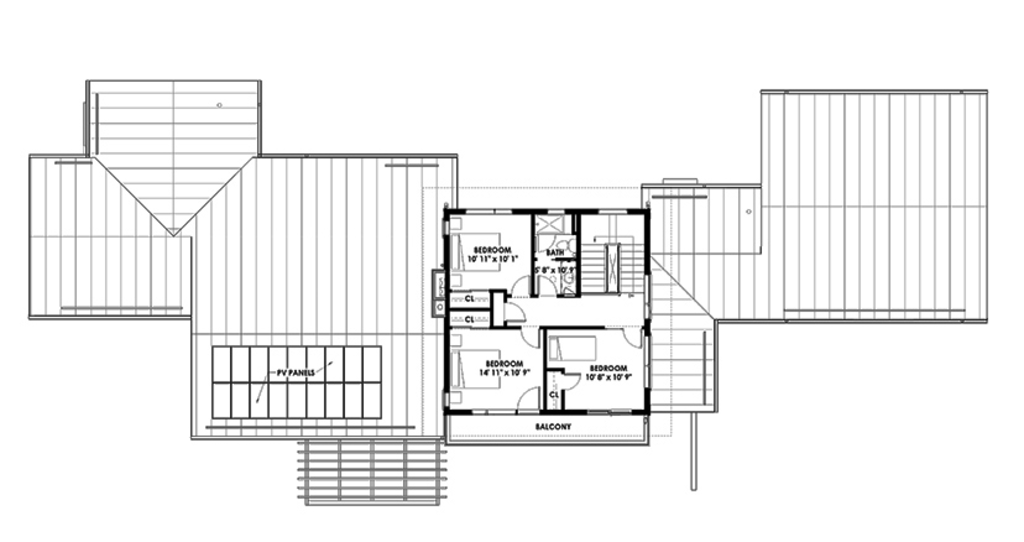bed: (448, 228, 501, 273), (448, 346, 504, 387), (548, 329, 600, 365)
door: (510, 379, 545, 410), (501, 294, 526, 328), (614, 325, 644, 349), (560, 367, 585, 394), (507, 272, 534, 296)
stairs: (578, 211, 651, 296)
window: (460, 206, 512, 221), (588, 204, 627, 220)
